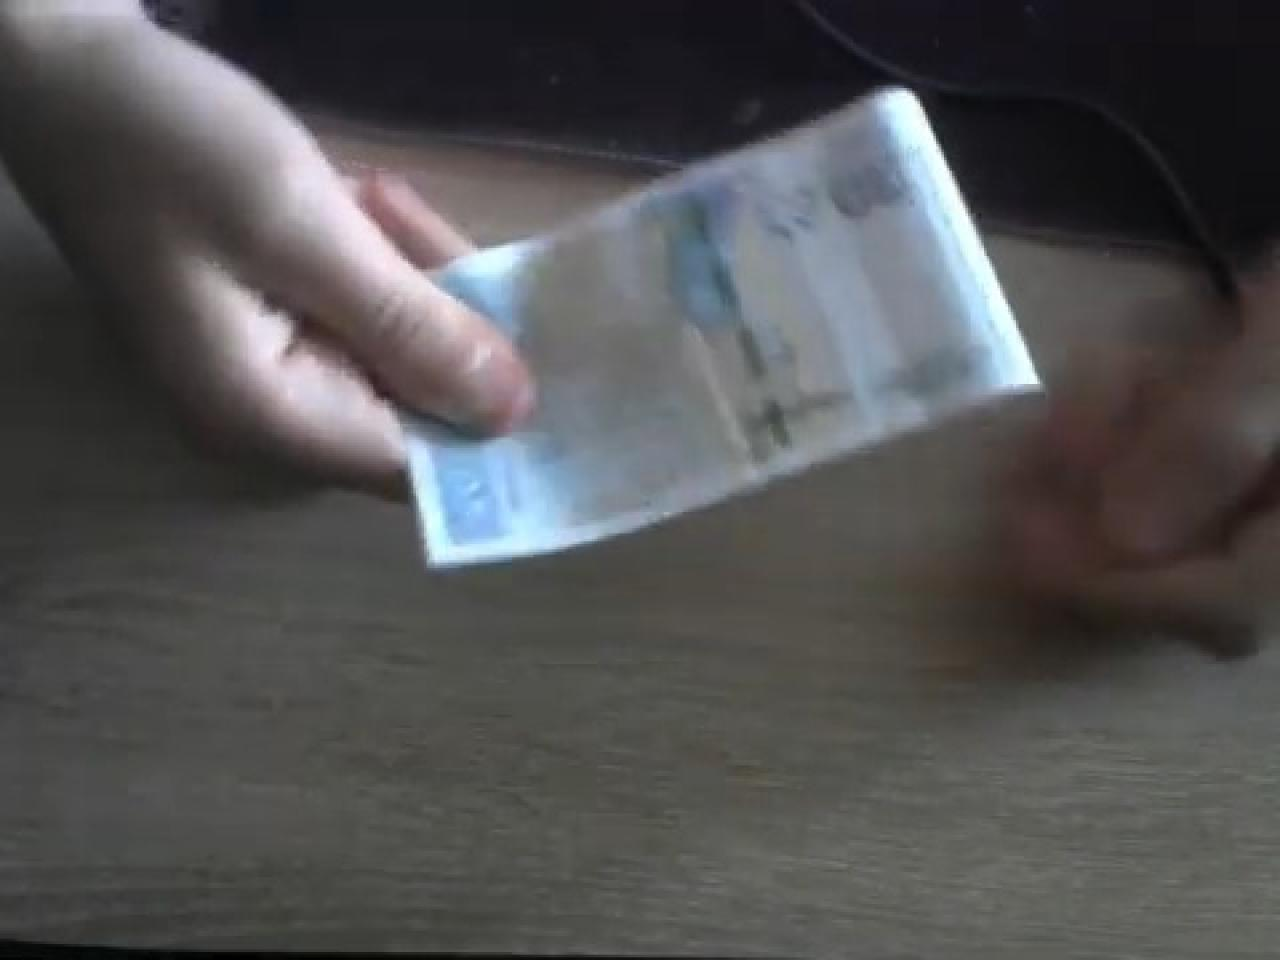20leva: (384, 80, 1051, 573)
